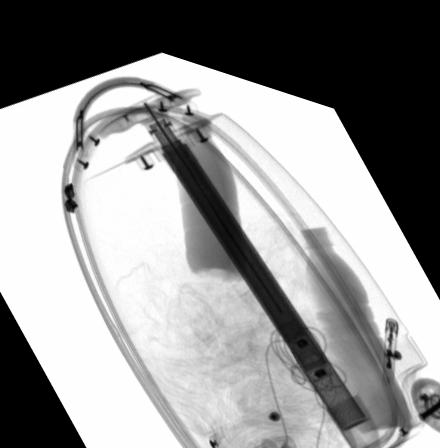Lighter: (381, 291, 398, 359)
